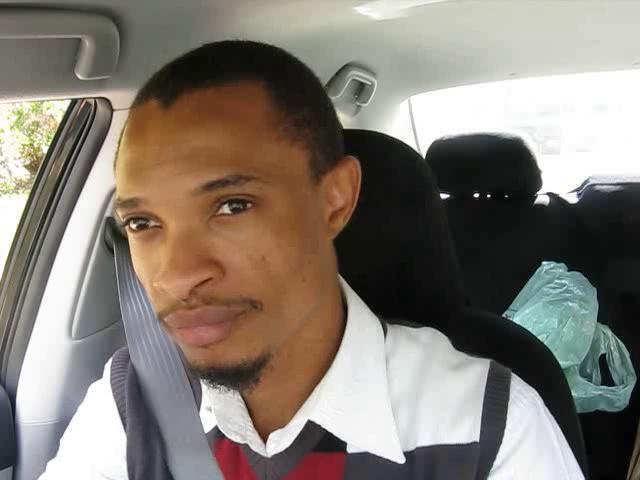no_yawn: (156, 294, 269, 353)
open_eyeL: (117, 204, 169, 242)
open_eyeR: (199, 186, 268, 230)
